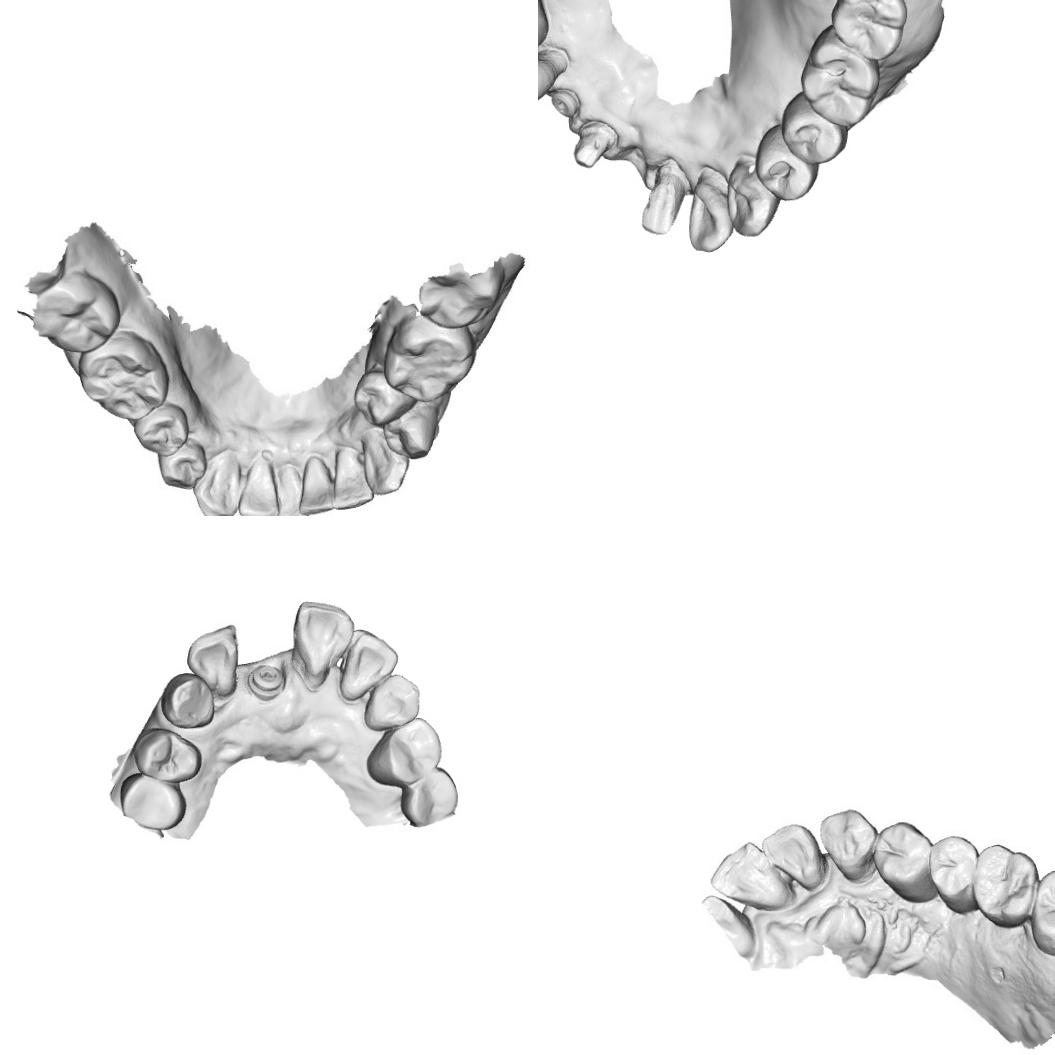canine: (818, 806, 878, 884), (362, 673, 422, 732), (726, 166, 774, 238), (159, 670, 216, 730), (362, 430, 410, 498), (193, 456, 242, 516)
crown: (638, 162, 686, 236), (572, 119, 618, 171)
implant_minus: (245, 662, 287, 702), (549, 88, 580, 118)
incisor: (289, 600, 355, 694), (708, 838, 792, 911), (336, 628, 399, 704), (760, 821, 822, 891), (184, 622, 240, 698), (685, 167, 732, 253), (332, 447, 373, 509), (298, 456, 335, 516), (239, 458, 276, 516), (274, 465, 314, 516)
molar: (381, 315, 479, 407), (799, 25, 880, 130), (82, 340, 170, 420), (28, 276, 111, 356), (970, 841, 1040, 929), (829, 0, 909, 61), (1027, 866, 1055, 958)
premolar: (365, 714, 443, 788), (871, 820, 939, 904), (780, 90, 850, 166), (754, 124, 819, 202), (116, 771, 188, 831), (398, 766, 464, 828), (132, 726, 202, 784), (928, 834, 980, 910), (354, 374, 416, 424), (134, 404, 186, 458), (384, 410, 433, 456), (160, 444, 206, 489)
